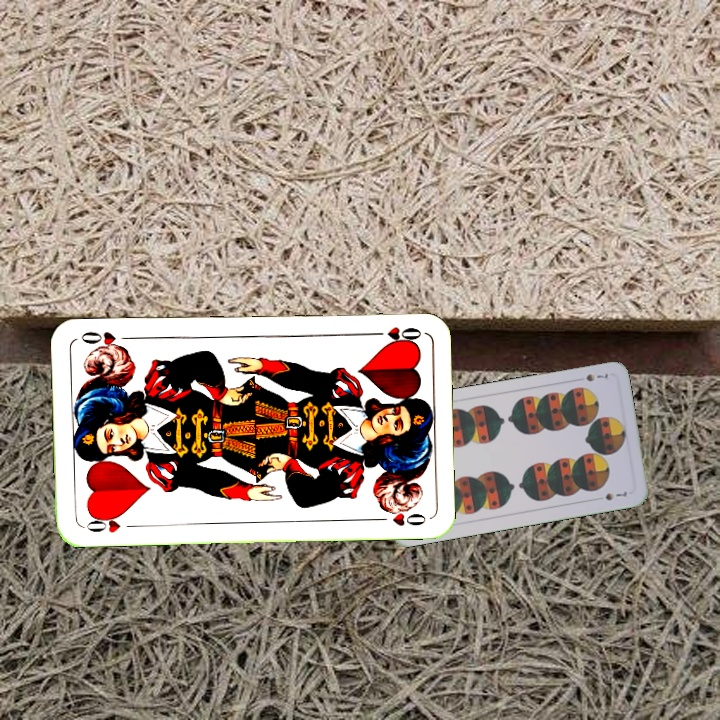HO: (80, 511, 139, 535), (365, 322, 424, 345)
S7: (582, 370, 612, 384)
